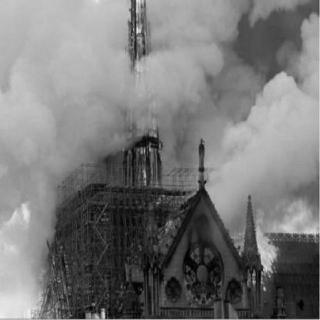Fire: (130, 4, 157, 188)
